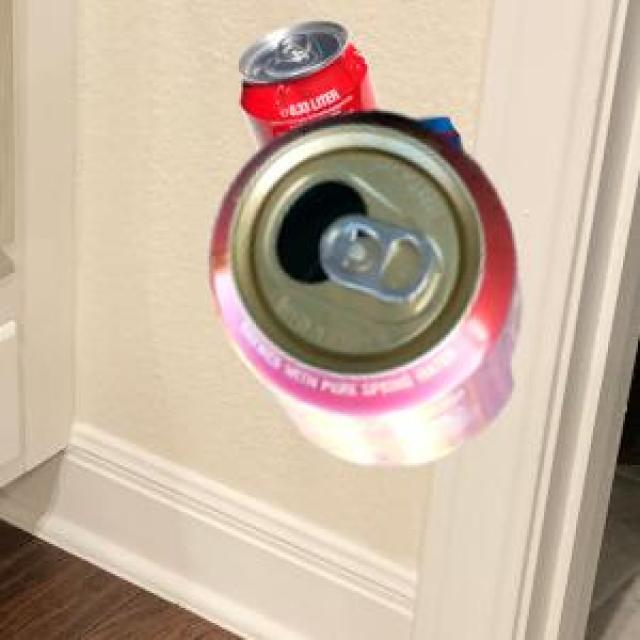Can: (206, 108, 517, 462), (236, 18, 377, 148)
